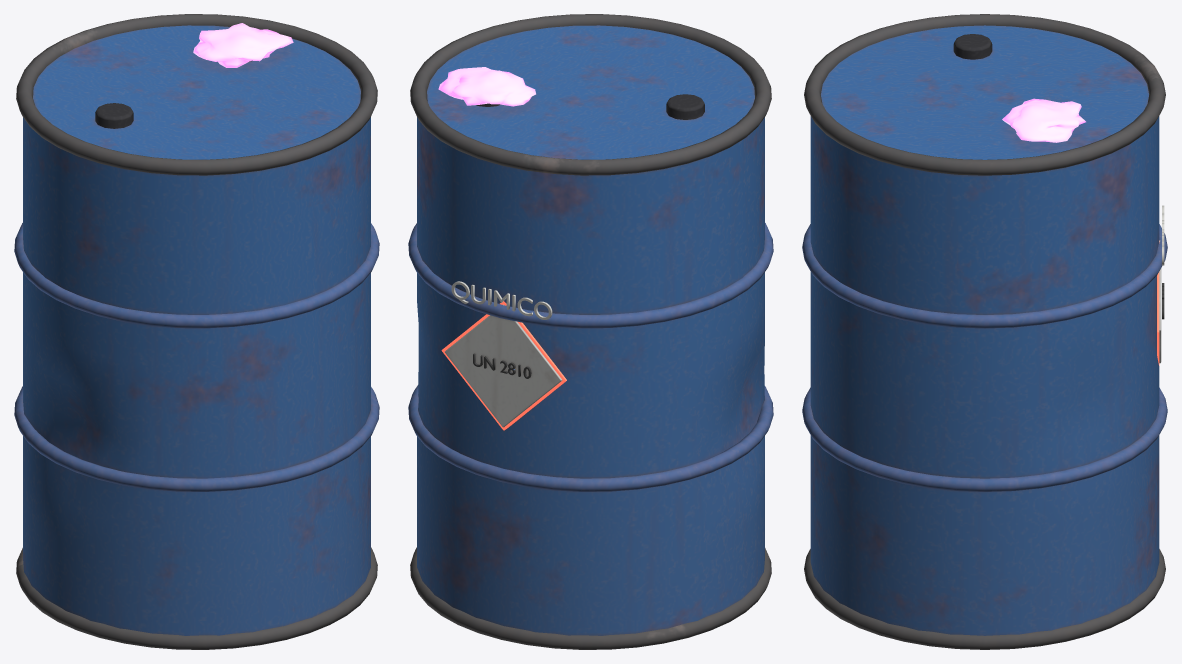
File: barril_azul.glb
3 renders of one model, left to right at view 1: azimuth 30°, elevation 25°; view 2: azimuth 150°, elevation 25°; view 3: azimuth 270°, elevation 25°, orthographic.
Visible parts, largest first — view 1: barril_azul; view 2: barril_azul; view 3: barril_azul.
Boxes of the visible parts, bbox=[...] form: barril_azul: bbox=[14, 14, 379, 649]; barril_azul: bbox=[408, 14, 773, 649]; barril_azul: bbox=[802, 14, 1167, 649].
Size of the model in its own units: 0.608 by 0.9244 by 0.608.
Materials: 3 (1 with a texture image).
